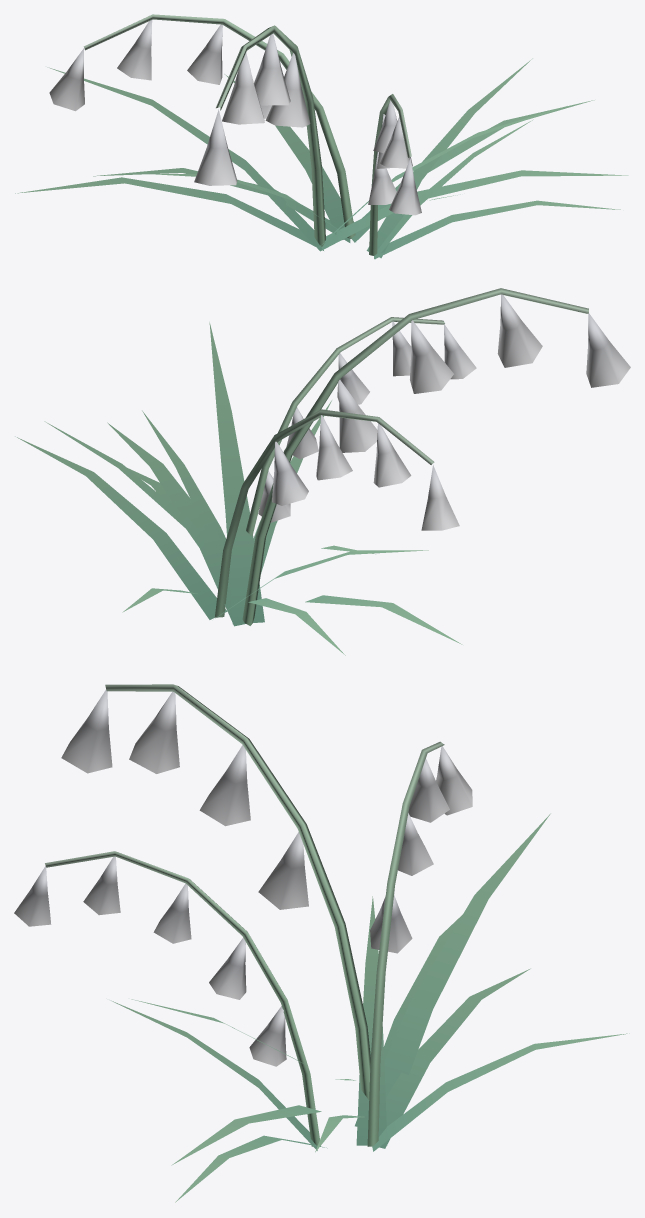
The model's file is bluebell_white.glb.
3 views of the same model, one above another, from view 1: azimuth 30°, elevation 25°; view 2: azimuth 150°, elevation 25°; view 3: azimuth 270°, elevation 25° (orthographic). The views are drawn at different scales.
Visible parts, largest first — view 1: soft; view 2: soft; view 3: soft.
Part boxes in pixels (x1,y1,x2,y2): soft: [15, 14, 628, 259]; soft: [15, 288, 630, 655]; soft: [14, 684, 629, 1202].
Bounding box in the file's own units: 0.6248 × 0.3538 × 0.5586.
